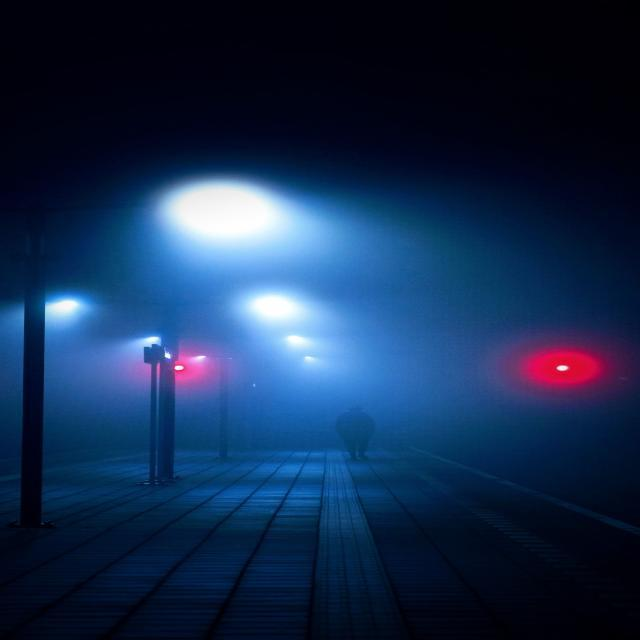on: (156, 140, 322, 281), (238, 288, 351, 395), (513, 337, 607, 400)
